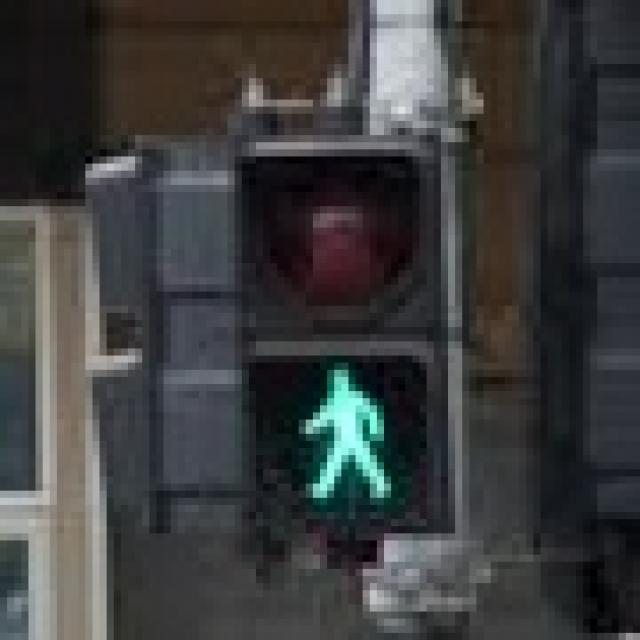green_light: (270, 341, 406, 519)
